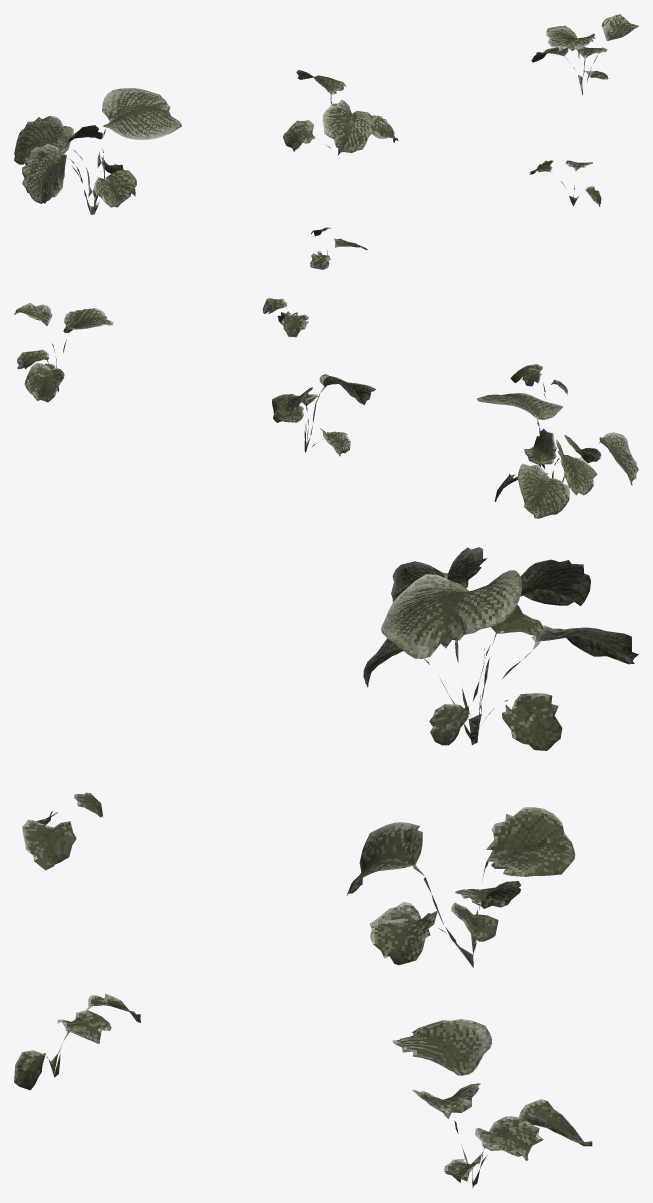
File: plant_calathea.glb
3 views of the same model, one above another, from view 1: azimuth 30°, elevation 25°; view 2: azimuth 150°, elevation 25°; view 3: azimuth 270°, elevation 25° (orthographic). The views are drawn at different scales.
Visible parts, largest first — view 1: mesh; view 2: mesh; view 3: mesh.
Part boxes in pixels (<box>): mesh: <box>14,14,638,269</box>; mesh: <box>14,298,638,518</box>; mesh: <box>14,547,638,1188</box>.
Size of the model in its own units: 2.5 by 0.4241 by 1.2.
Materials: 1 (1 with a texture image).
